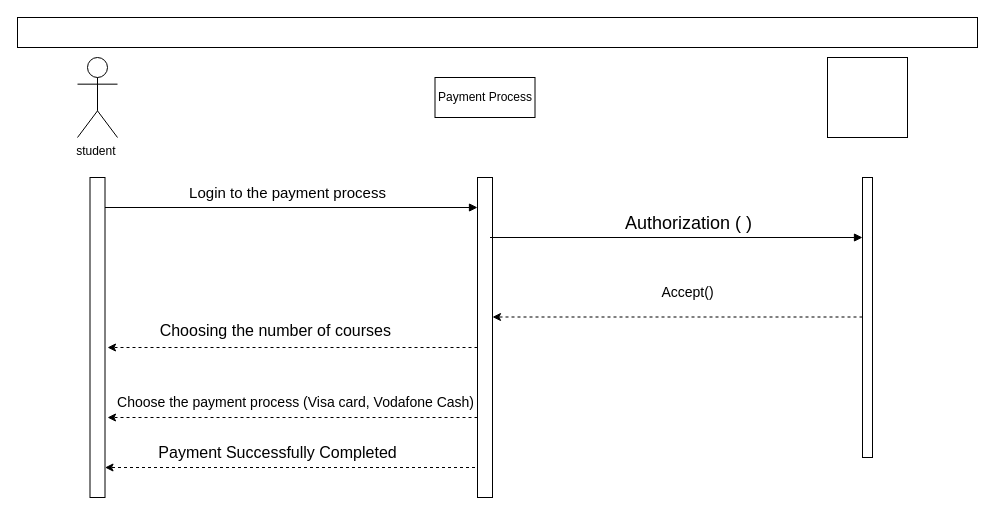
This 995x515 diagram has some shape labels left out. The centre of each missing label's shape, as x and y in pixels:
"Data base" belongs at pixel 867 97.
"sequance(4)" belongs at pixel 497 32.
